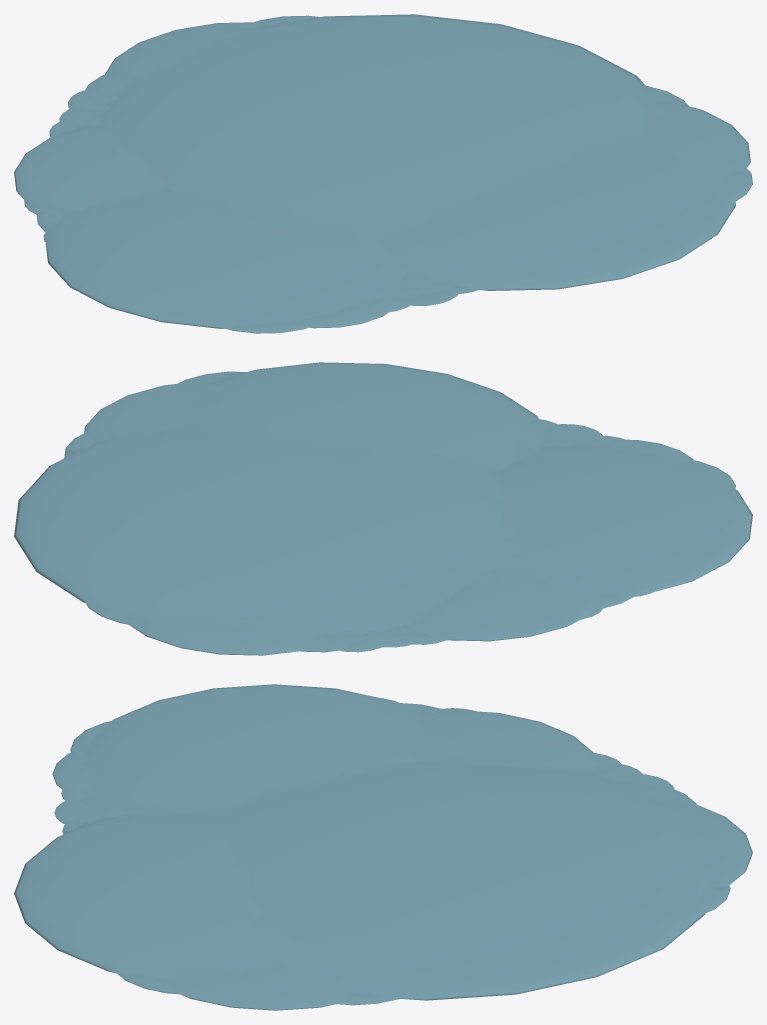
The model's file is Puddle.fbx.
3 renders of one model, top to bottom at view 1: azimuth 30°, elevation 25°; view 2: azimuth 150°, elevation 25°; view 3: azimuth 270°, elevation 25°, orthographic. The views are drawn at different scales.
Visible parts, largest first — view 1: pSphere25; view 2: pSphere25; view 3: pSphere25.
Part boxes in pixels (box(x1,y1,x2,y2)): pSphere25: box(14, 14, 752, 333); pSphere25: box(14, 362, 752, 655); pSphere25: box(14, 684, 752, 1010).
Bounding box in the file's own units: 6.65 × 0.2384 × 6.37.
